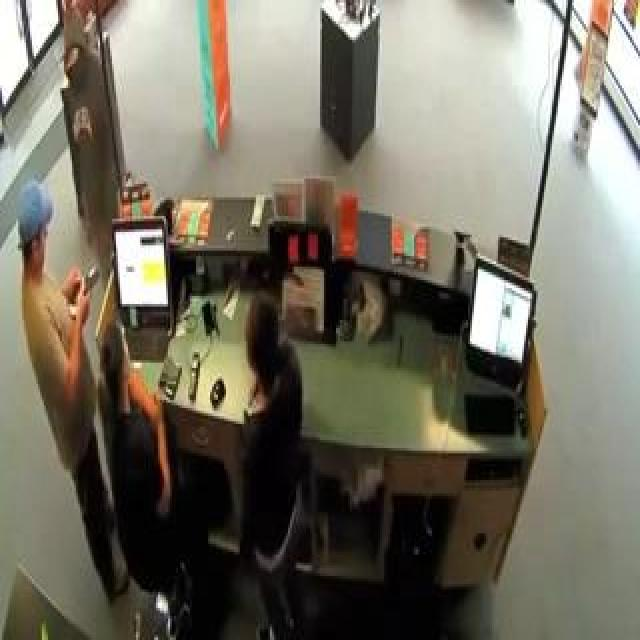high_con: (54, 4, 99, 92)
low_con: (17, 181, 55, 287)
no_con: (232, 294, 292, 399), (96, 312, 143, 417)
